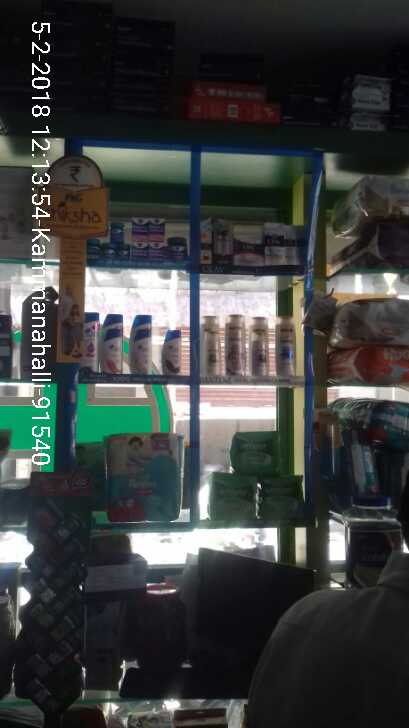beauty: (128, 314, 152, 378), (249, 317, 269, 379), (277, 315, 296, 378), (104, 314, 123, 377), (225, 315, 244, 376), (202, 316, 221, 377), (234, 229, 263, 267), (161, 329, 181, 377), (263, 223, 284, 267), (83, 311, 98, 370), (285, 225, 296, 268)
pharmacy: (105, 434, 185, 519), (208, 471, 256, 522), (265, 472, 307, 517), (234, 433, 280, 473), (147, 217, 166, 243), (146, 242, 166, 262), (131, 241, 145, 266), (130, 218, 148, 237)
